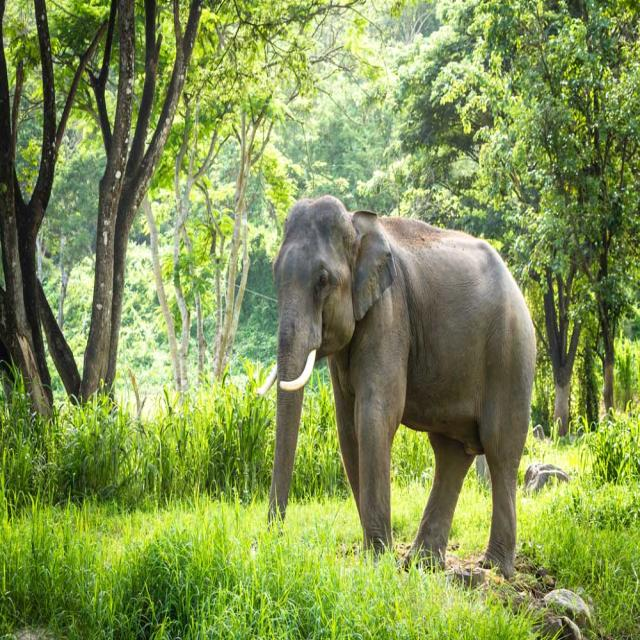Elephant: (260, 193, 549, 586)
